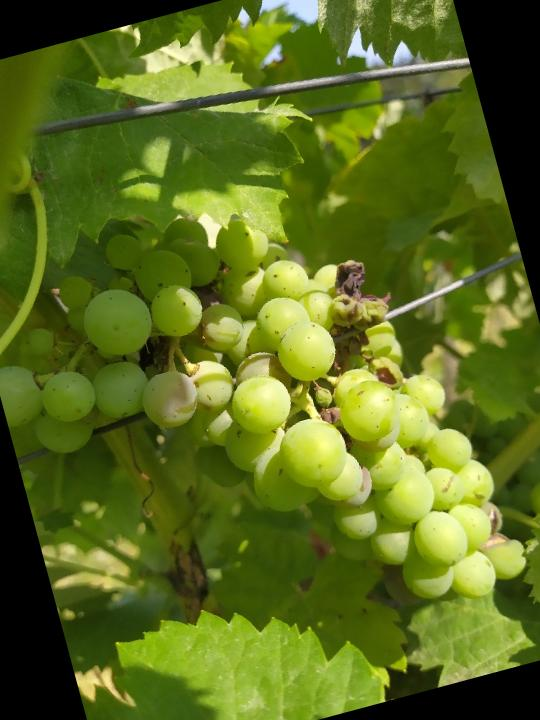grape: (0, 152, 535, 705)
